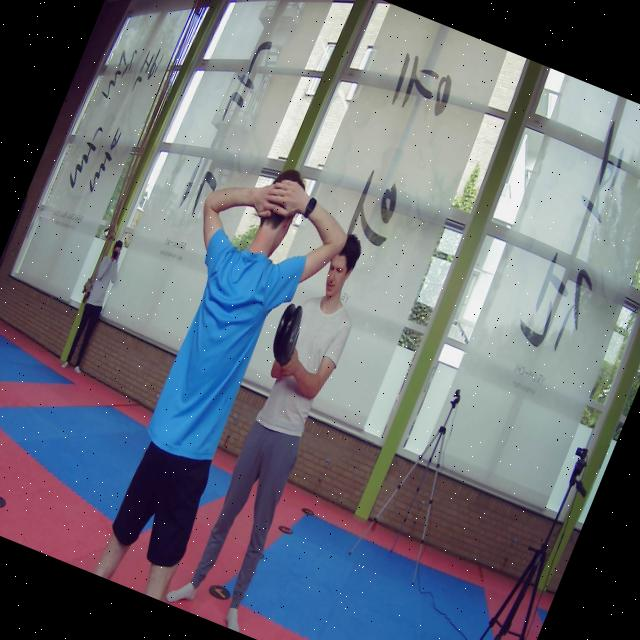paddle: (272, 302, 302, 365)
